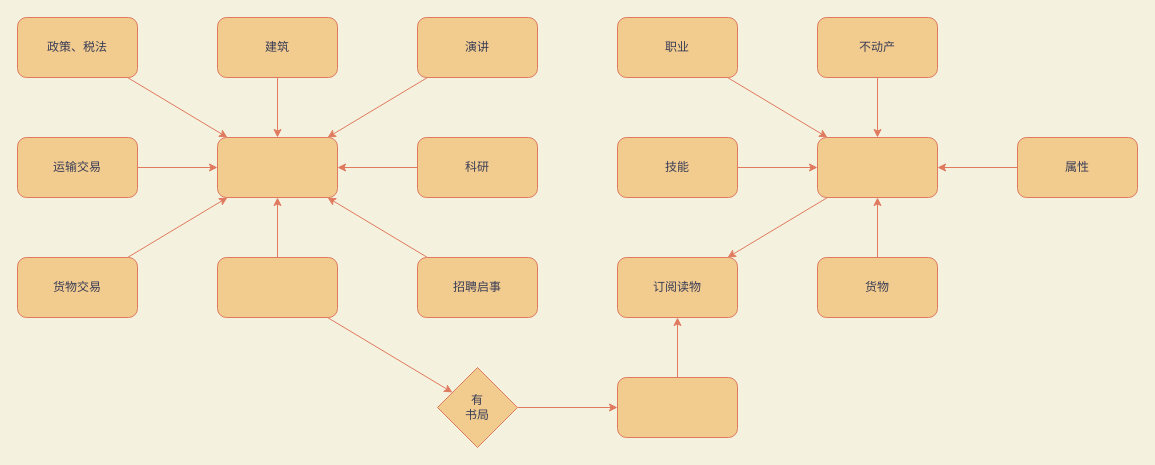
Some shapes in this 1155 by 465 pixel diagram are drawn without their labels. Here are the shapes that lost their labels. From the top down, the box of each, then its label:
(216, 136, 338, 198): 城市
(816, 136, 938, 198): 用户
(216, 256, 338, 318): 拥有建筑
(616, 376, 738, 438): 出版读物
